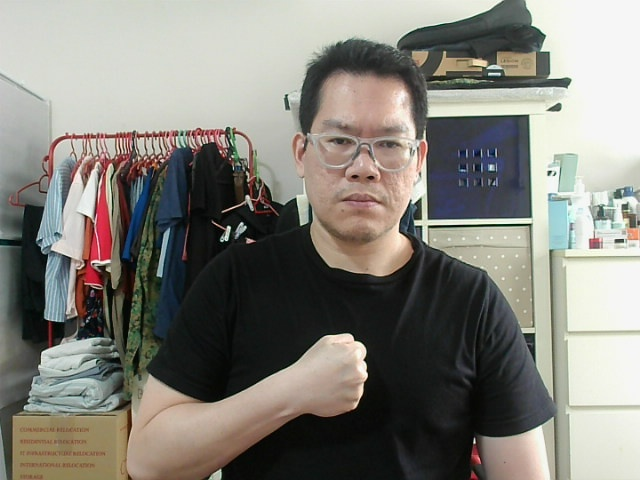sorry: (295, 337, 360, 405)
